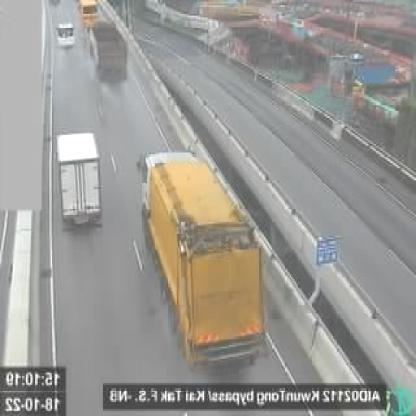Car: (56, 22, 76, 49)
Truck: (140, 147, 260, 367), (56, 128, 105, 233), (85, 19, 127, 76), (76, 0, 98, 26)
